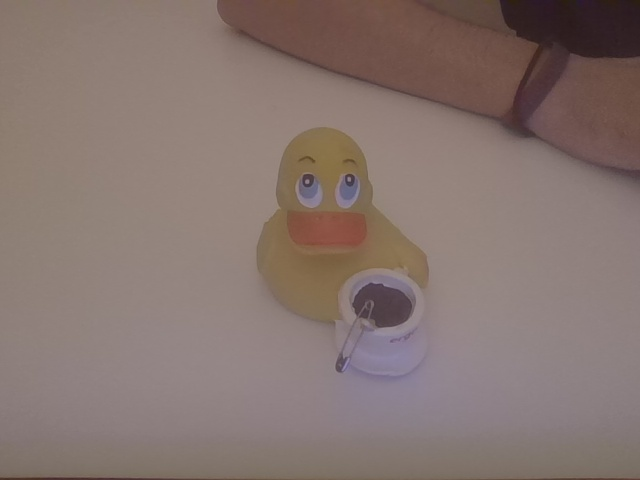duck: (235, 110, 440, 394)
